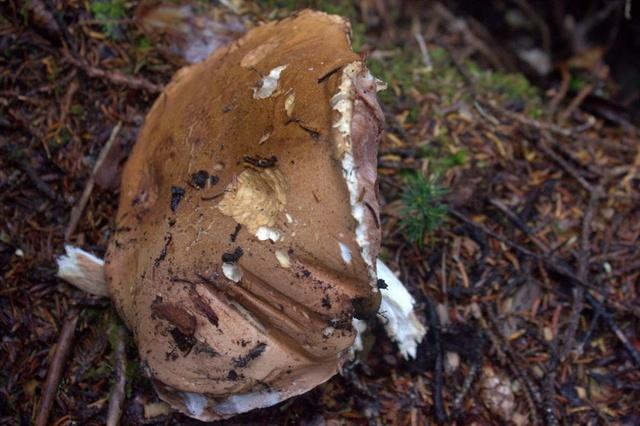poisonous_mushroom: (54, 7, 399, 421)
